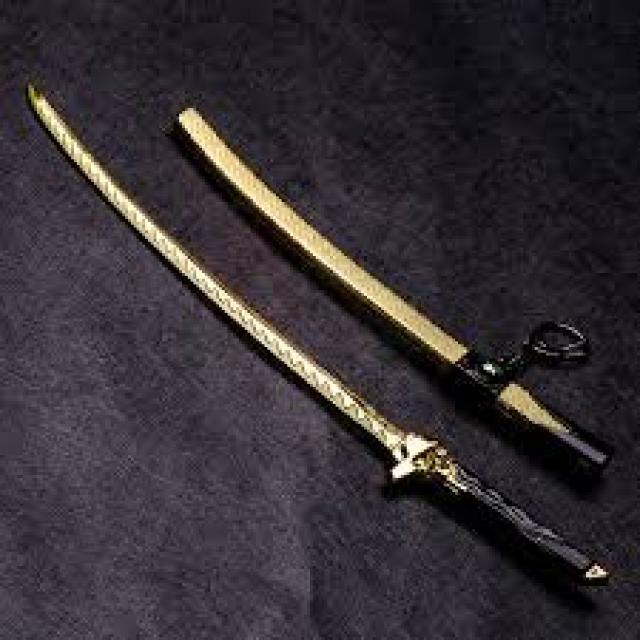long sword: (24, 73, 613, 586)
